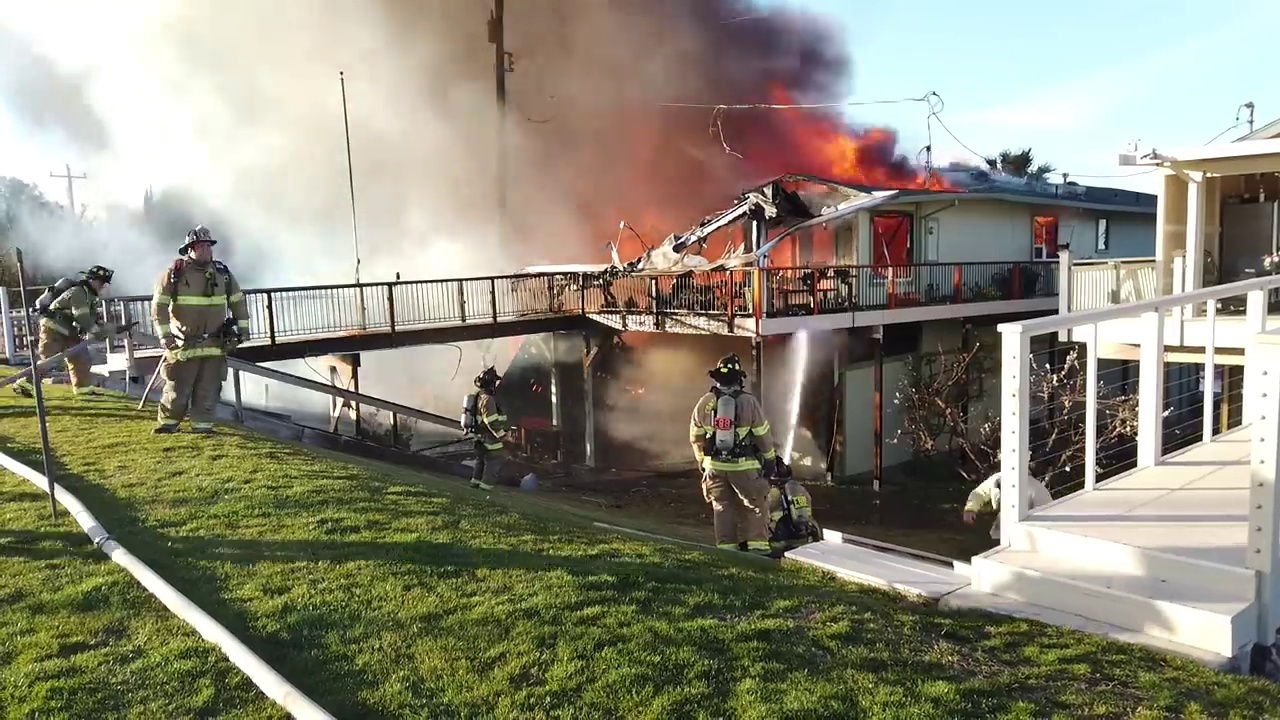fire: (823, 112, 955, 191), (772, 82, 821, 144), (621, 374, 650, 406), (506, 334, 524, 355)
smoke: (1, 1, 593, 276), (599, 1, 853, 109), (598, 117, 710, 219), (612, 337, 689, 482), (236, 371, 362, 439), (363, 353, 463, 421), (715, 108, 764, 201), (769, 146, 822, 188), (527, 336, 589, 364), (466, 342, 505, 369)
